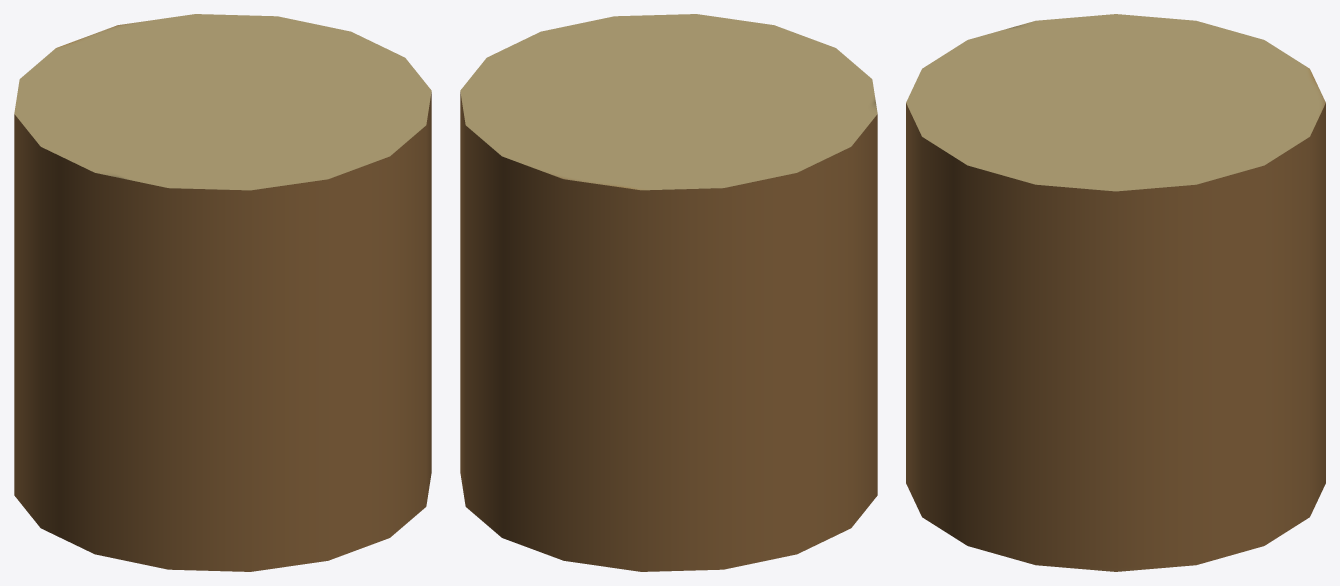
Rendered from stump.glb.
3 views of the same model, side by side, from view 1: azimuth 30°, elevation 25°; view 2: azimuth 150°, elevation 25°; view 3: azimuth 270°, elevation 25° (orthographic).
Visible parts, largest first — view 1: stump; view 2: stump; view 3: stump.
Part boxes in pixels (<box>): stump: <box>14,14,431,571</box>; stump: <box>460,14,877,571</box>; stump: <box>906,14,1325,571</box>.
Bounding box in the file's own units: 2 × 2 × 2.
Materials: 1 (1 with a texture image).
